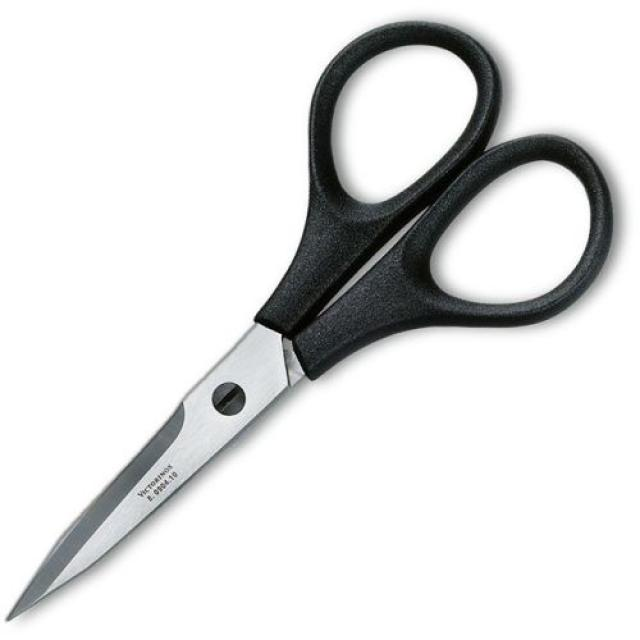Gunting: (0, 15, 614, 625)
